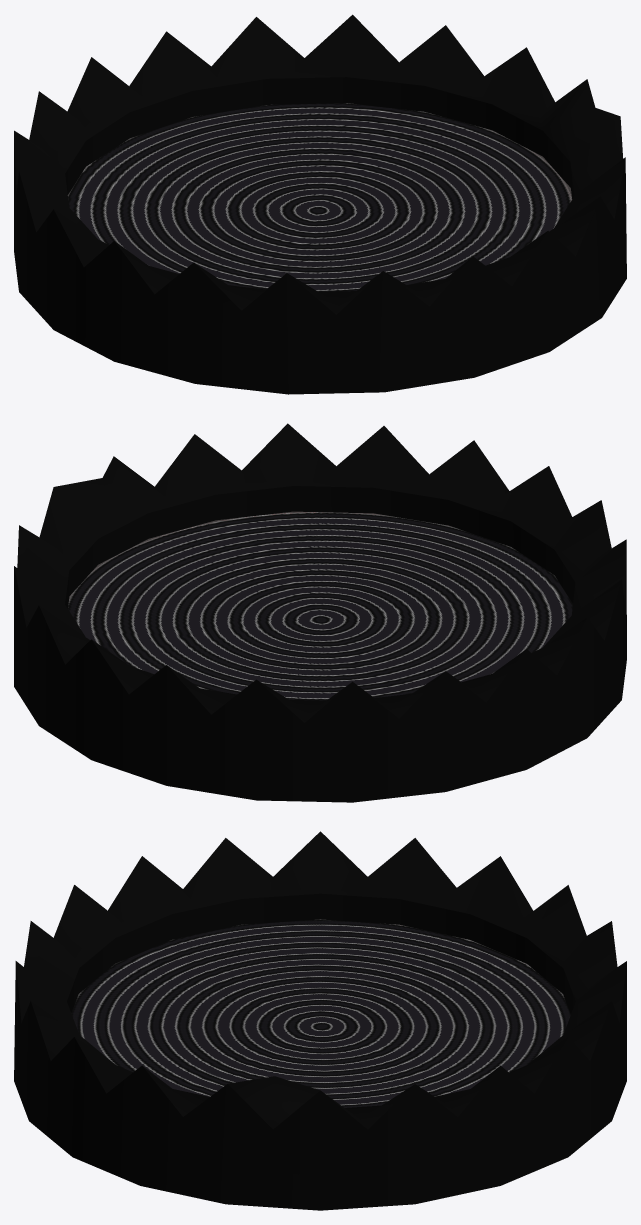
Rendered from BlackPiece.FBX.
The picture shows the model from 3 angles, top to bottom: view 1: azimuth 30°, elevation 25°; view 2: azimuth 150°, elevation 25°; view 3: azimuth 270°, elevation 25°; orthographic projection.
Visible parts, largest first — view 1: BlackPiece; view 2: BlackPiece; view 3: BlackPiece.
Boxes of the visible parts, box(x1,y1,x2,y2) form: BlackPiece: box(14, 14, 626, 394); BlackPiece: box(14, 423, 626, 802); BlackPiece: box(14, 831, 626, 1210).
Size of the model in its own units: 11.81 by 2.56 by 11.81.
